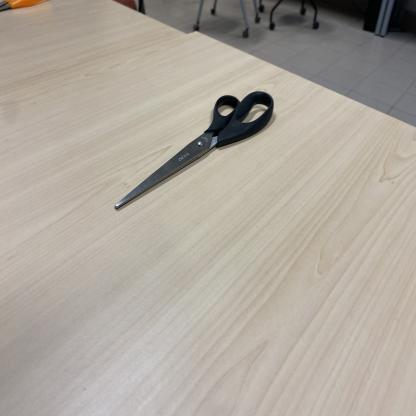scissors: (116, 91, 275, 211)
